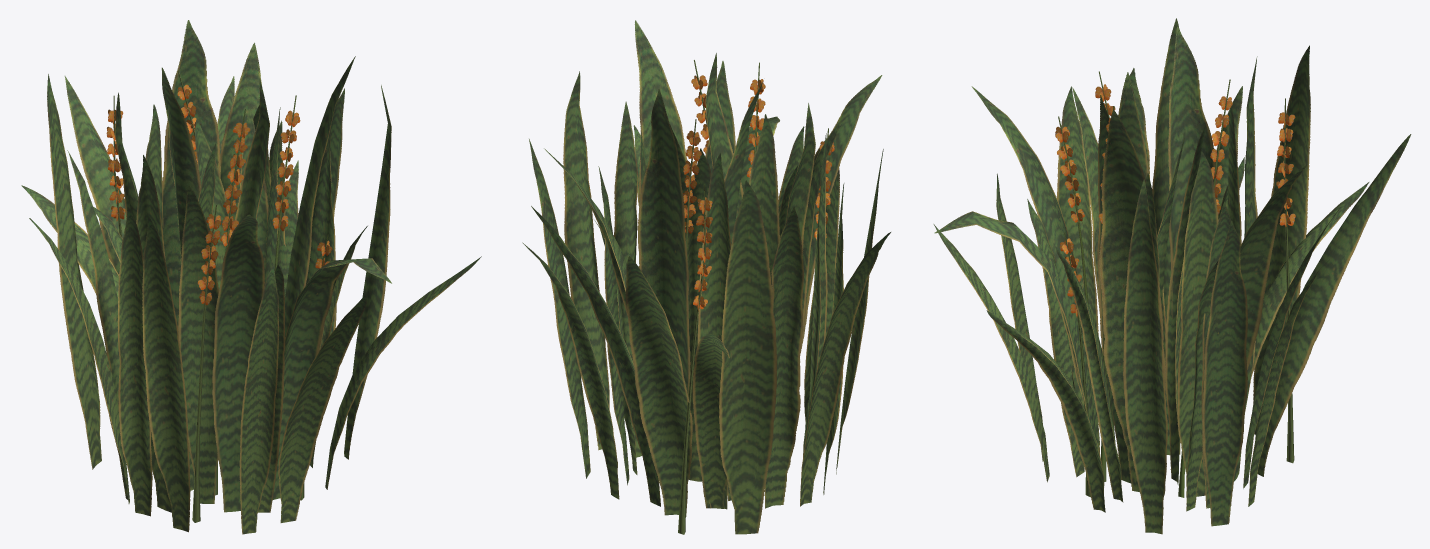
Rendered from Sansevieria_Trifasciata_Autumn_Adult.glb.
3 renders of one model, left to right at view 1: azimuth 30°, elevation 25°; view 2: azimuth 150°, elevation 25°; view 3: azimuth 270°, elevation 25°, orthographic.
Visible parts, largest first — view 1: Sansevieria_Trifasciata_Autumn_Adult__LOD3; view 2: Sansevieria_Trifasciata_Autumn_Adult__LOD3; view 3: Sansevieria_Trifasciata_Autumn_Adult__LOD3.
Boxes of the visible parts, left/top/right/bottom form: Sansevieria_Trifasciata_Autumn_Adult__LOD3: left=21, top=20, right=481, bottom=534; Sansevieria_Trifasciata_Autumn_Adult__LOD3: left=522, top=20, right=890, bottom=534; Sansevieria_Trifasciata_Autumn_Adult__LOD3: left=933, top=18, right=1411, bottom=534.
Bounding box in the file's own units: 0.9597 × 1.07 × 1.1.
Materials: 3 (3 with a texture image).
